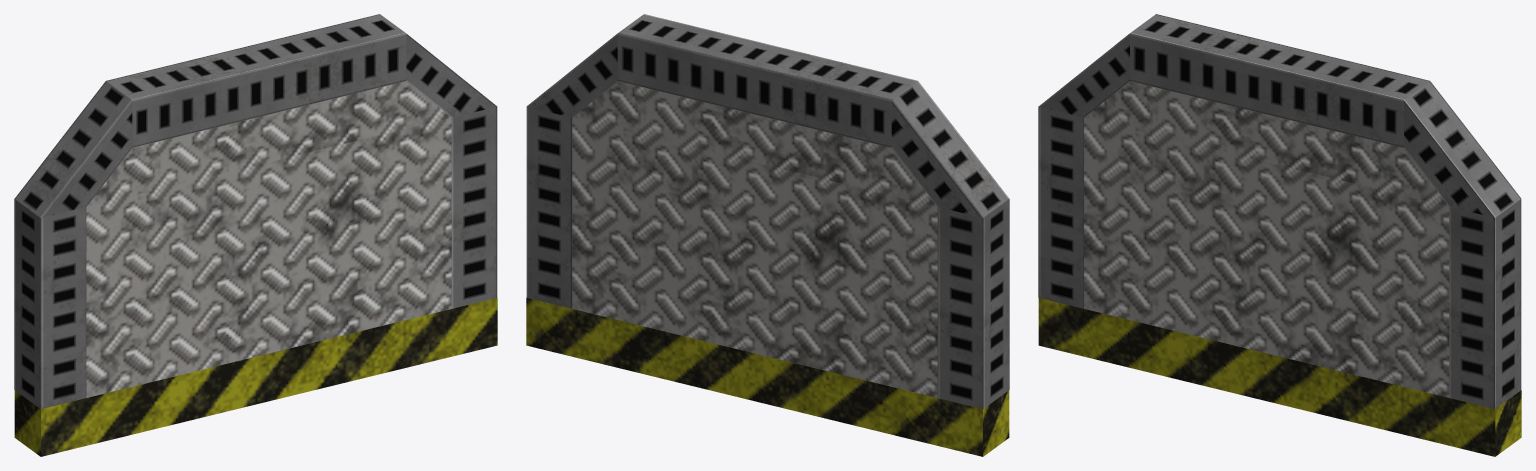
The model's file is barrier (warning).obj.
3 renders of one model, left to right at view 1: azimuth 30°, elevation 25°; view 2: azimuth 150°, elevation 25°; view 3: azimuth 330°, elevation 25°, orthographic.
Visible parts, largest first — view 1: barrier (warning); view 2: barrier (warning); view 3: barrier (warning).
Part boxes in pixels (x1,y1,x2,y2): barrier (warning): (14,14,497,456); barrier (warning): (526,14,1009,456); barrier (warning): (1038,14,1521,456).
Size of the model in its own units: 5 by 3.5 by 0.5001.
